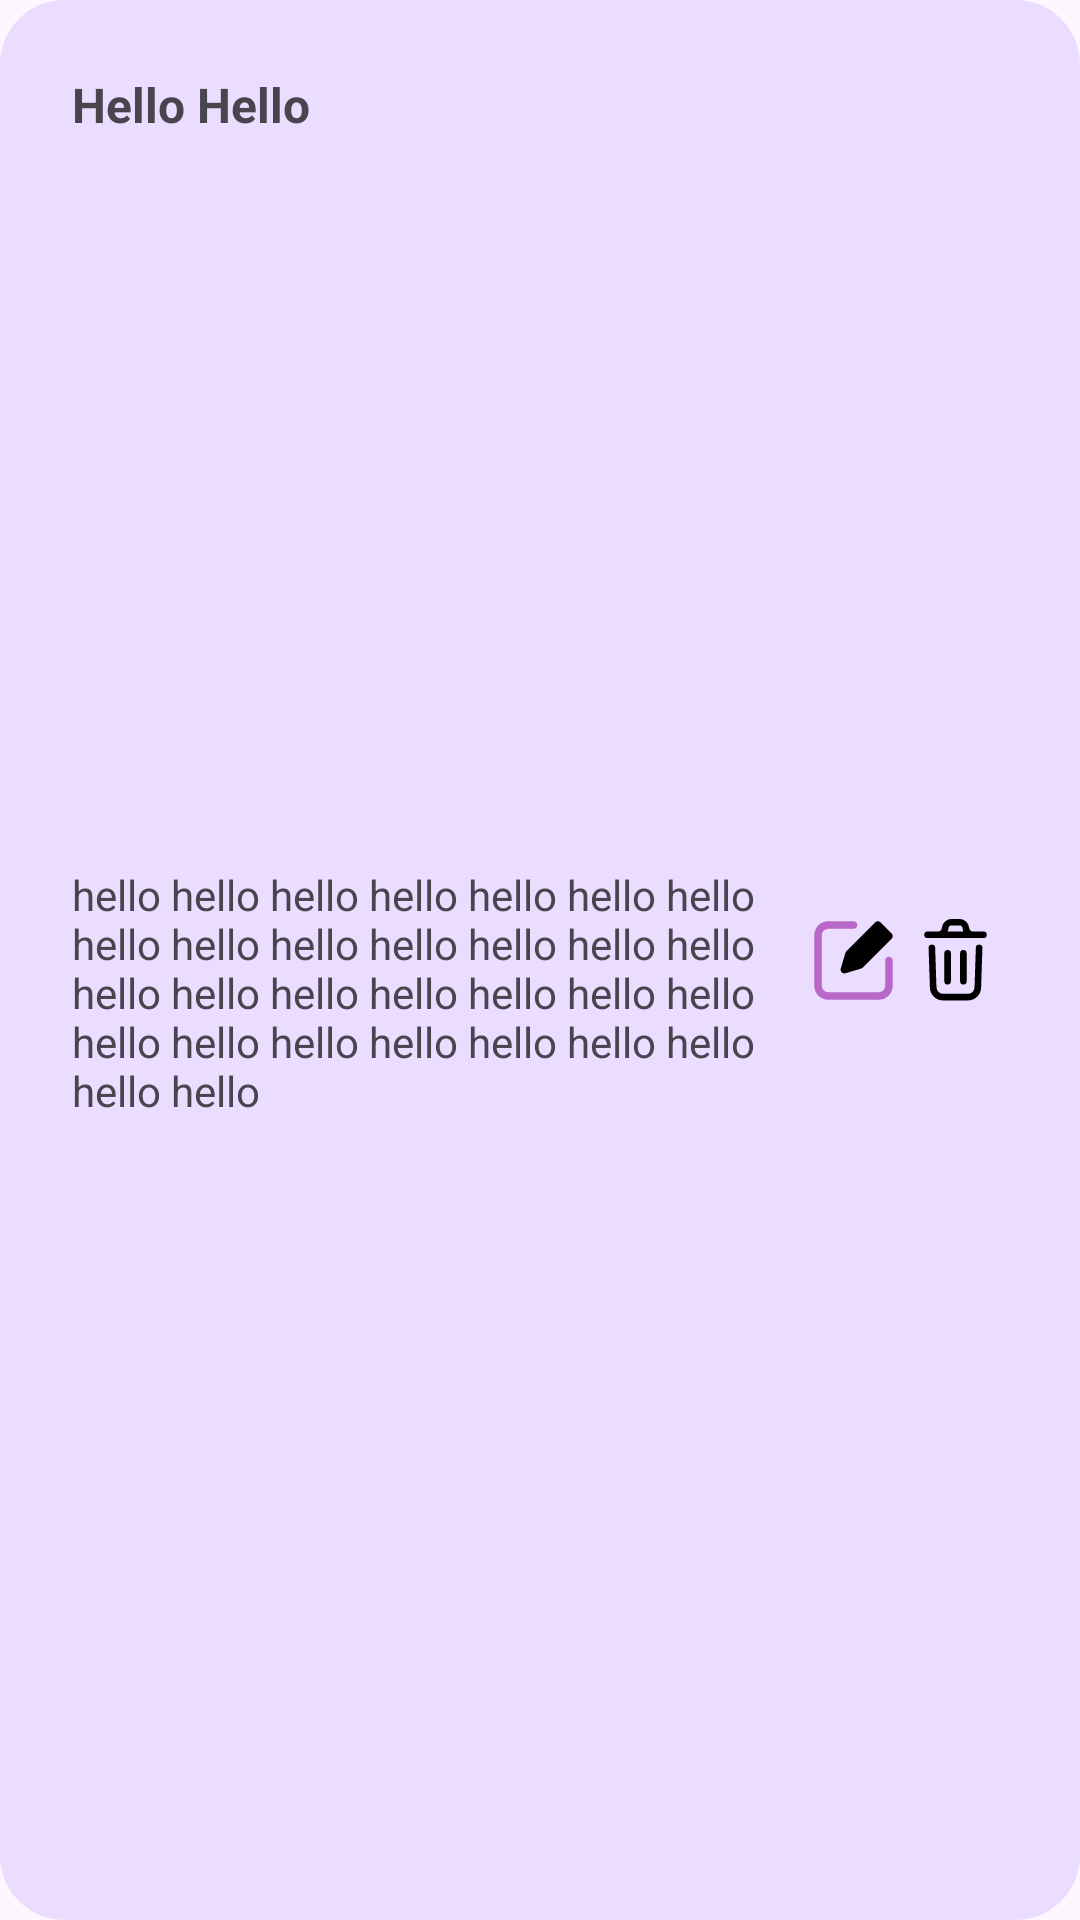

Named icons in this screenshot (1080x1920) and their centers, (x=x, y=y):
delete: (x=955, y=960)
edit: (x=853, y=960)
